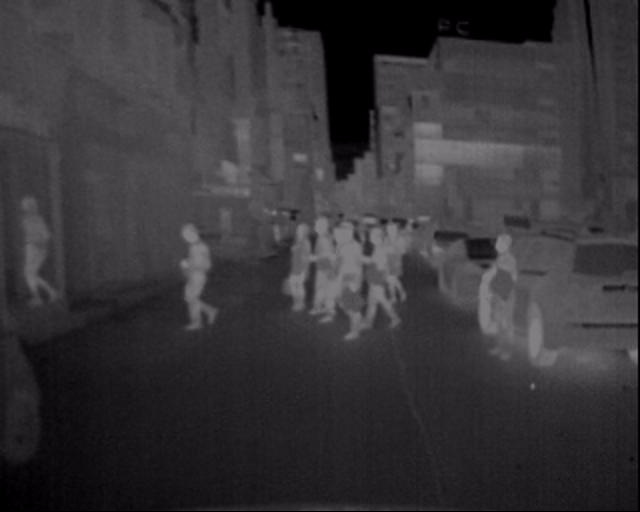person: (279, 195, 369, 348), (167, 199, 220, 352), (480, 216, 529, 356), (6, 183, 47, 320), (364, 220, 399, 331)
